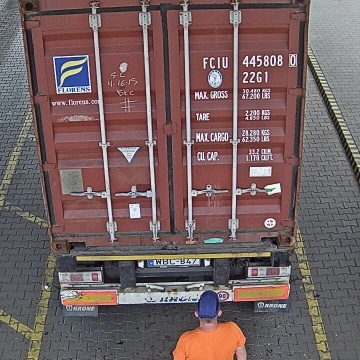serial_id: (203, 54, 297, 68)
